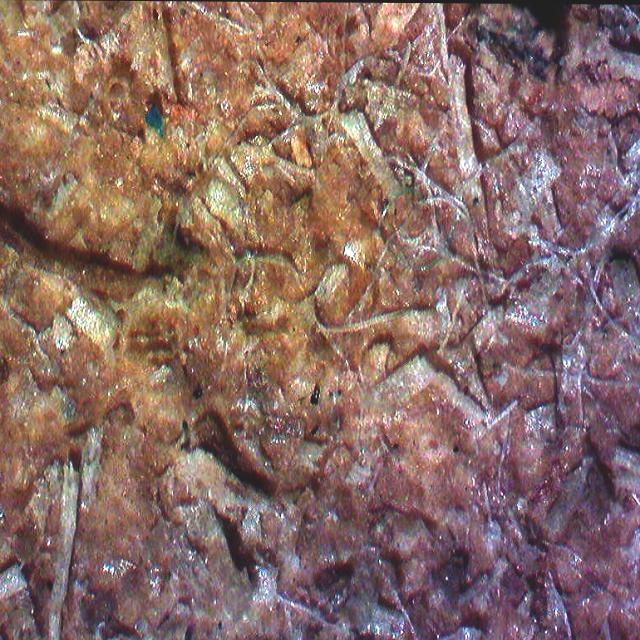microplastic: (144, 103, 164, 140)
